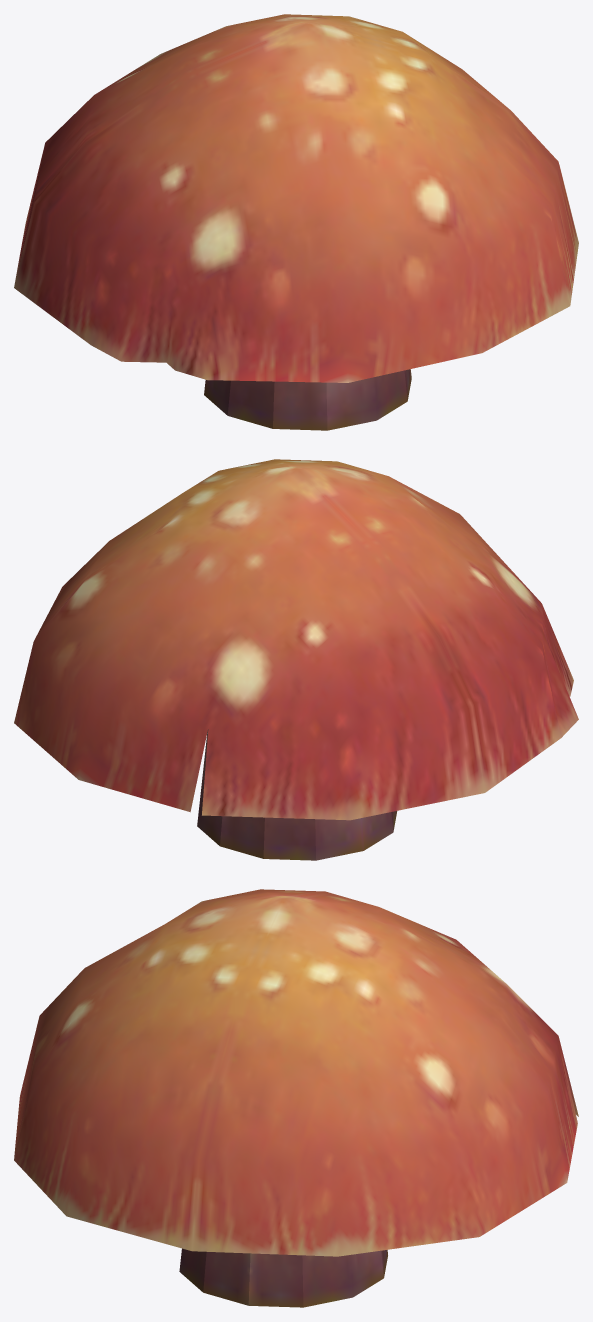
The model's file is gonghui_mogu_03 (2).fbx.
3 renders of one model, top to bottom at view 1: azimuth 30°, elevation 25°; view 2: azimuth 150°, elevation 25°; view 3: azimuth 270°, elevation 25°, orthographic. The views are drawn at different scales.
Visible parts, largest first — view 1: gonghui_mogu_03 (2); view 2: gonghui_mogu_03 (2); view 3: gonghui_mogu_03 (2).
Boxes of the visible parts, <box> form: gonghui_mogu_03 (2): <box>14,14,578,430</box>; gonghui_mogu_03 (2): <box>14,459,578,860</box>; gonghui_mogu_03 (2): <box>14,889,578,1307</box>.
Size of the model in its own units: 0.3266 by 0.2349 by 0.3302.
